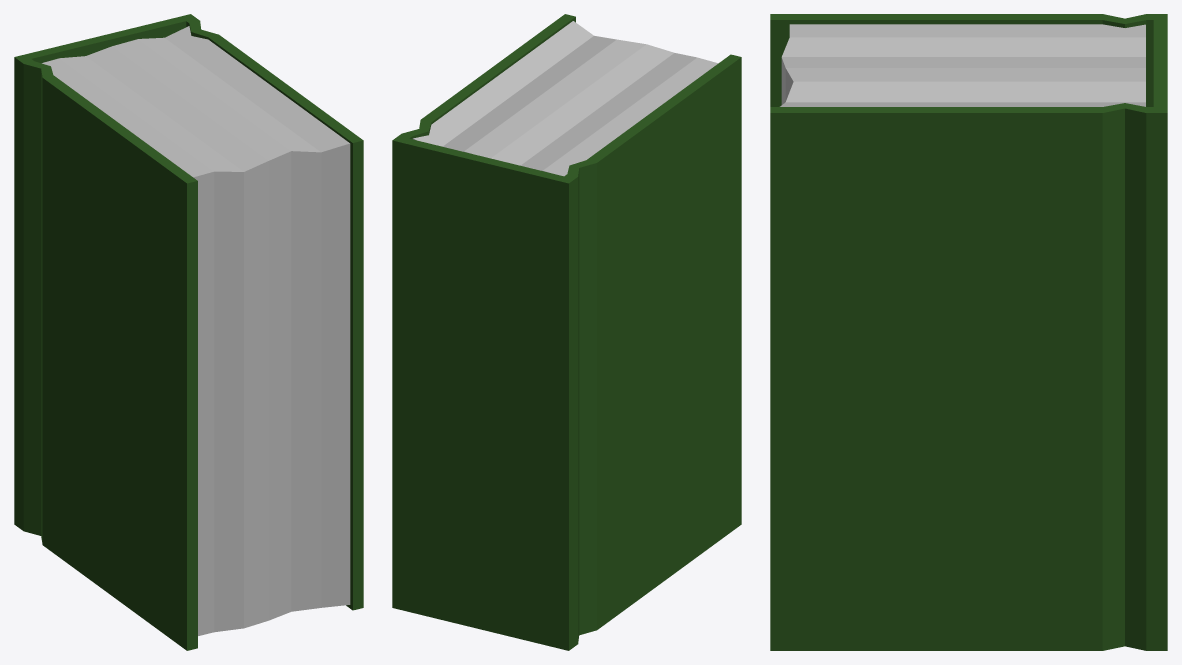
The model's file is book2.fbx.
3 views of the same model, side by side, from view 1: azimuth 30°, elevation 25°; view 2: azimuth 150°, elevation 25°; view 3: azimuth 270°, elevation 25° (orthographic). The views are drawn at different scales.
Visible parts, largest first — view 1: book2; view 2: book2; view 3: book2.
Boxes of the visible parts, left/top/right/bottom form: book2: left=14, top=14, right=363, bottom=650; book2: left=392, top=14, right=741, bottom=650; book2: left=770, top=14, right=1167, bottom=650.
Bounding box in the file's own units: 0.1237 × 0.313 × 0.2097.
